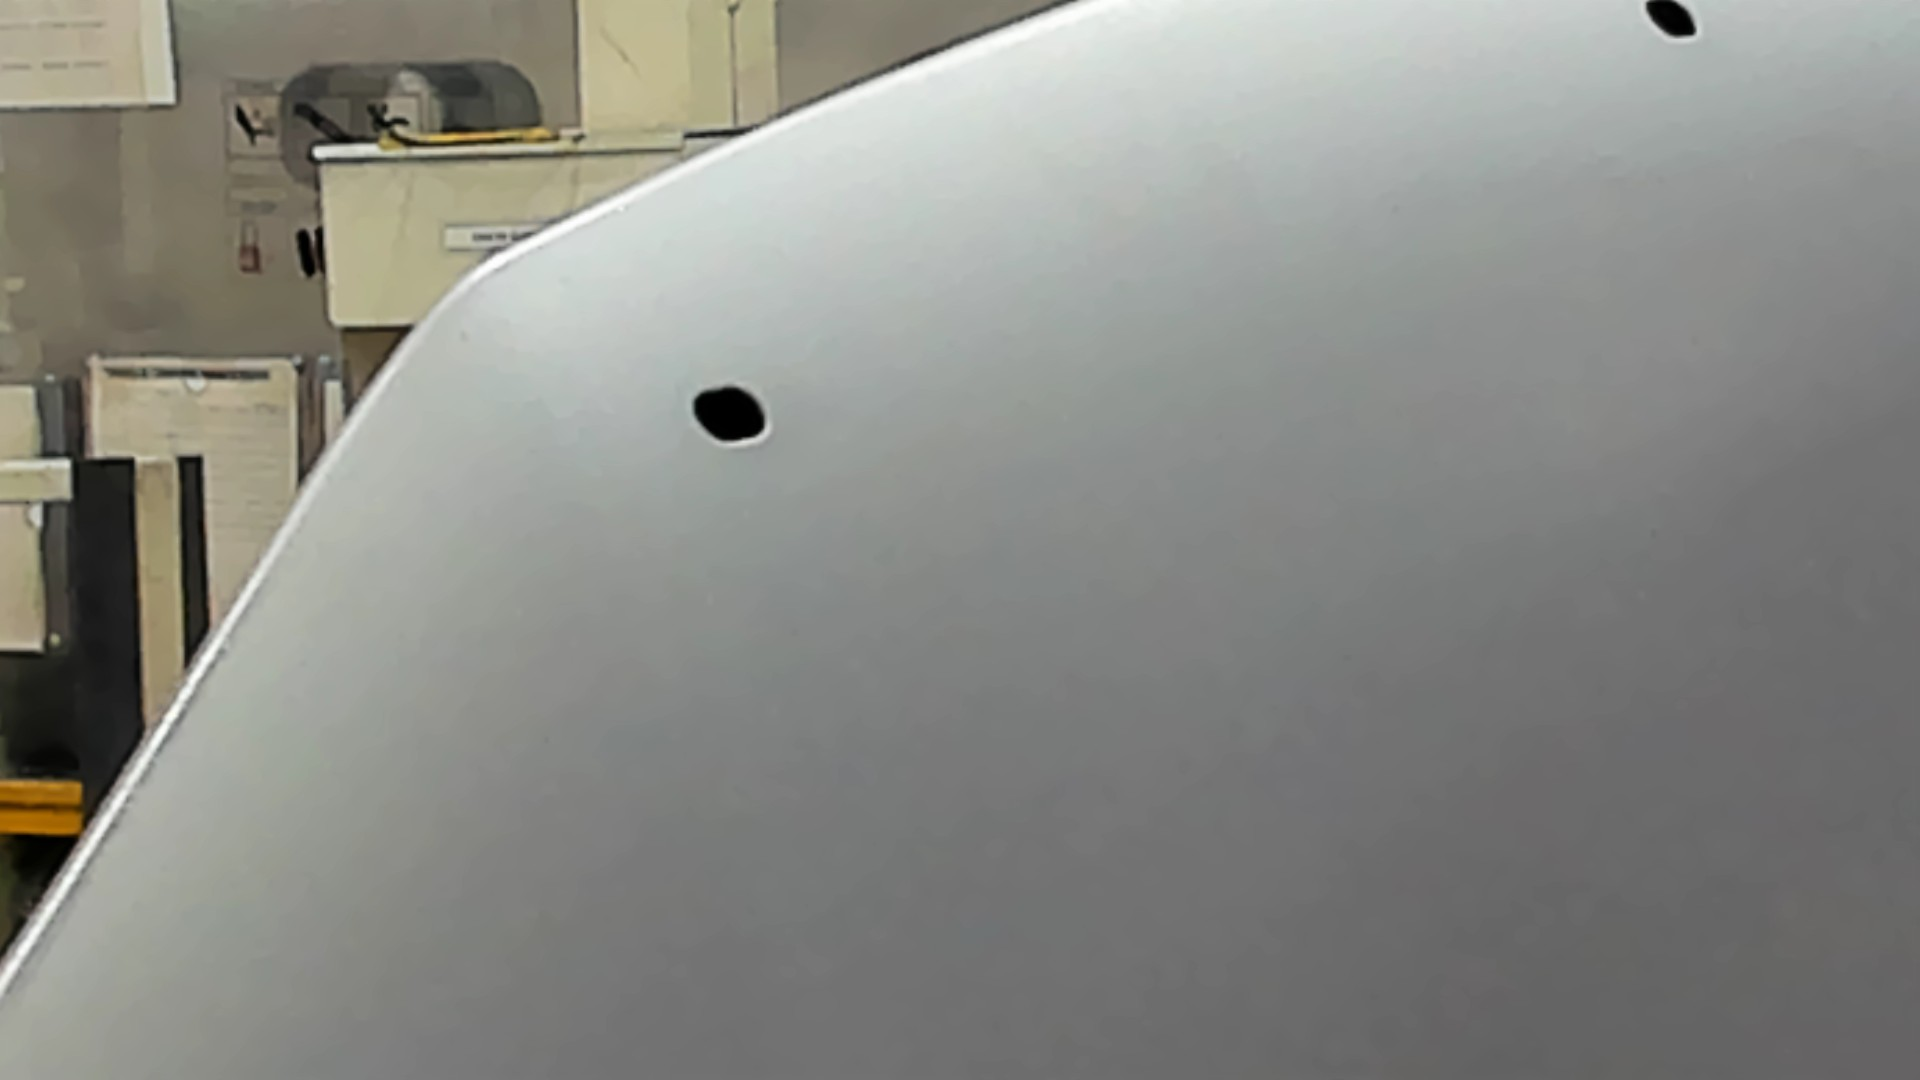Agujero: (688, 384, 771, 450), (1639, 1, 1702, 44)
